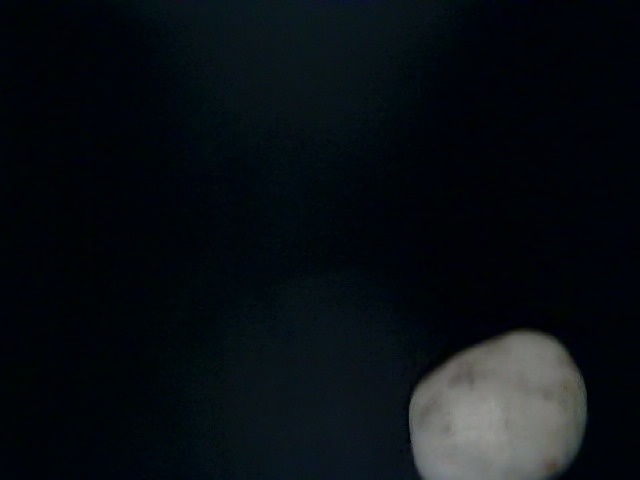QTLJ: (217, 400, 412, 480)
